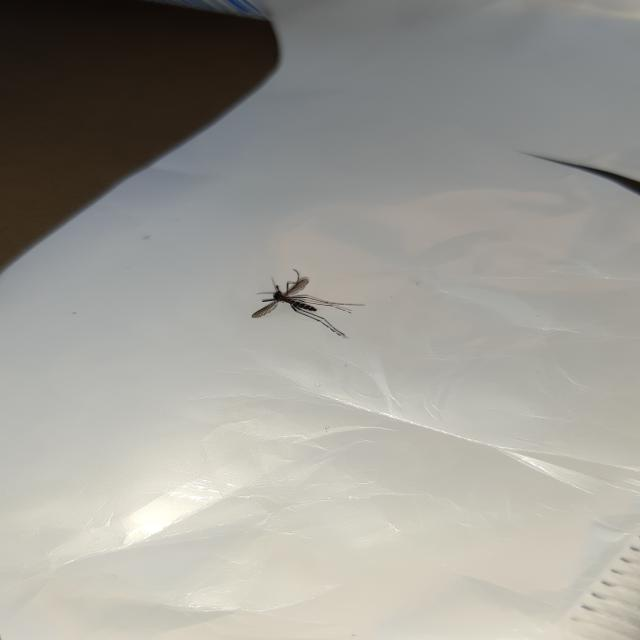albopictus: (242, 263, 362, 341)
